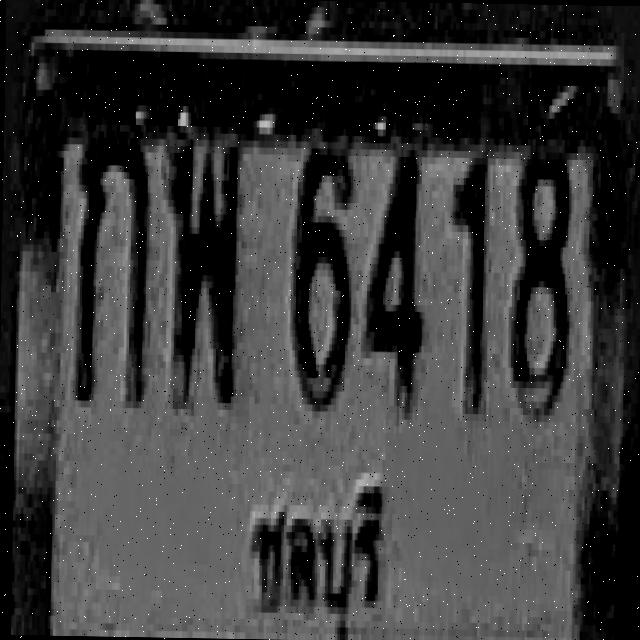1: (449, 154, 487, 410)
10GorGai: (74, 130, 150, 402)
39PhorPan: (166, 139, 239, 403)
4: (364, 146, 424, 403)
6: (292, 144, 354, 402)
8: (509, 148, 572, 412)
Chonburi: (248, 469, 393, 640)
